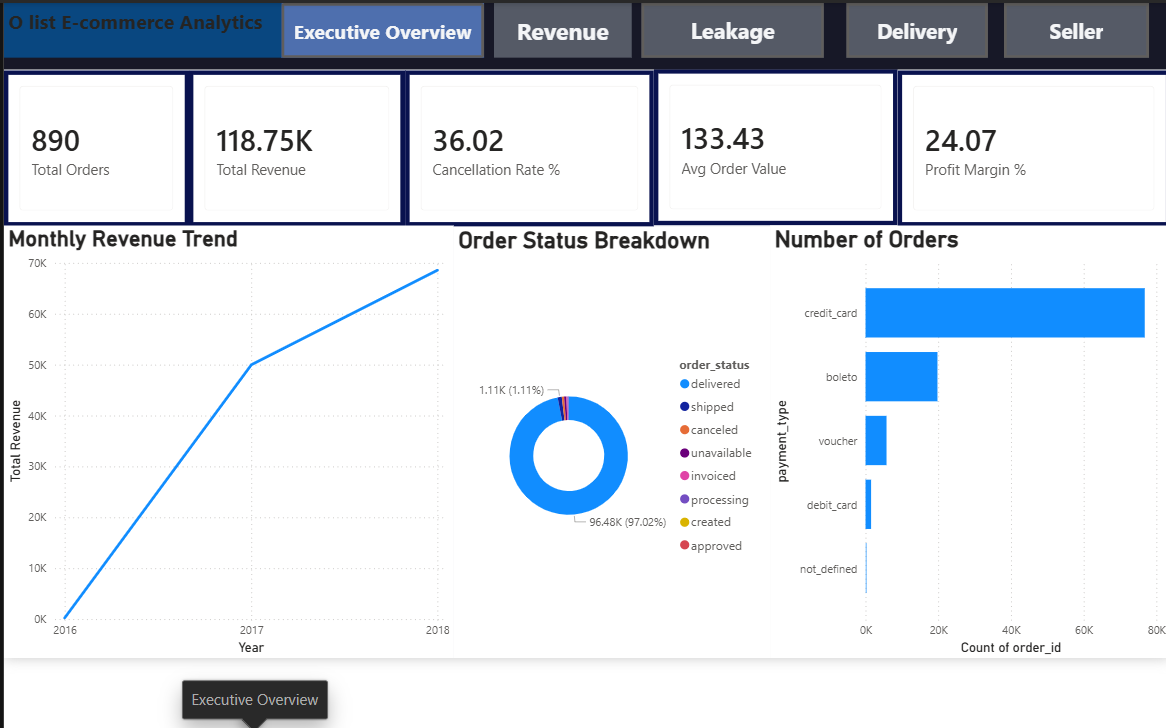

What the dashboard file says about the page in this screenshot:
{"tool":"powerbi","page":{"name":"Executive Overview","canvas":[1280,720],"ordinal":0},"visuals":[{"type":"cardVisual","fields":{"Data":["delivered_orders.Total Revenue"]},"box":[203.1,74.1,237.4,171.5],"z":0},{"type":"cardVisual","fields":{"Data":["delivered_orders.Total Orders"]},"box":[0,74.1,203.1,171.5],"z":1000},{"type":"cardVisual","fields":{"Data":["delivered_orders.Avg Order Value"]},"box":[713.6,72.7,267.6,171.5],"z":2000},{"type":"cardVisual","fields":{"Data":["delivered_orders.Profit Margin %"]},"box":[981.1,74.1,299.1,171.5],"z":3000},{"type":"cardVisual","fields":{"Data":["delivered_orders.Cancellation Rate %"]},"box":[440.5,74.1,273.1,171.5],"z":4000},{"type":"lineChart","title":"Monthly Revenue Trend","fields":{"Category":["delivered_orders.order_purchase_timestamp.Variation.Date Hierarchy.Year","delivered_orders.order_purchase_timestamp.Variation.Date Hierarchy.Month"],"Y":["delivered_orders.Total Revenue"]},"box":[0,244.3,494,476.2],"z":5000},{"type":"donutChart","title":"Order Status Breakdown","fields":{"Category":["stg_orders.order_status"],"Y":["CountNonNull(stg_orders.order_id)"]},"box":[494,245.6,347.2,474.8],"z":6000},{"type":"clusteredBarChart","title":"Number of Orders","fields":{"Category":["stg_order_payments.payment_type"],"Y":["CountNonNull(stg_order_payments.order_id)"]},"box":[841.2,244.3,439.1,476.2],"z":7000},{"type":"shape","box":[0,0,1280.3,72.7],"z":8000},{"type":"textbox","box":[0,0,304.6,60.4],"z":9000},{"type":"actionButton","title":"Executive Overview","box":[304.6,0,222.3,60.4],"z":9001},{"type":"actionButton","title":"Revenue","box":[537.9,0,150.9,60.4],"z":9002},{"type":"actionButton","box":[699.8,0,200.3,60.4],"z":9003},{"type":"actionButton","box":[924.9,0,155.1,60.4],"z":9004},{"type":"actionButton","box":[1097.8,0,159.2,60.4],"z":9005}]}

Visuals, with their boxes on the page's 1280x720 design canvas (x1, y1, x2, y2). These are canvas units, not pixel positions in the 1166x728 screenshot, which may show the page scaled, cropped or inside an application window:
cardVisual - delivered_orders.Total Revenue: [203, 74, 440, 246]
cardVisual - delivered_orders.Total Orders: [0, 74, 203, 246]
cardVisual - delivered_orders.Avg Order Value: [714, 73, 981, 244]
cardVisual - delivered_orders.Profit Margin %: [981, 74, 1280, 246]
cardVisual - delivered_orders.Cancellation Rate %: [440, 74, 714, 246]
"Monthly Revenue Trend" lineChart: [0, 244, 494, 720]
"Order Status Breakdown" donutChart: [494, 246, 841, 720]
"Number of Orders" clusteredBarChart: [841, 244, 1280, 720]
shape: [0, 0, 1280, 73]
textbox: [0, 0, 305, 60]
"Executive Overview" actionButton: [305, 0, 527, 60]
"Revenue" actionButton: [538, 0, 689, 60]
actionButton: [700, 0, 900, 60]
actionButton: [925, 0, 1080, 60]
actionButton: [1098, 0, 1257, 60]
